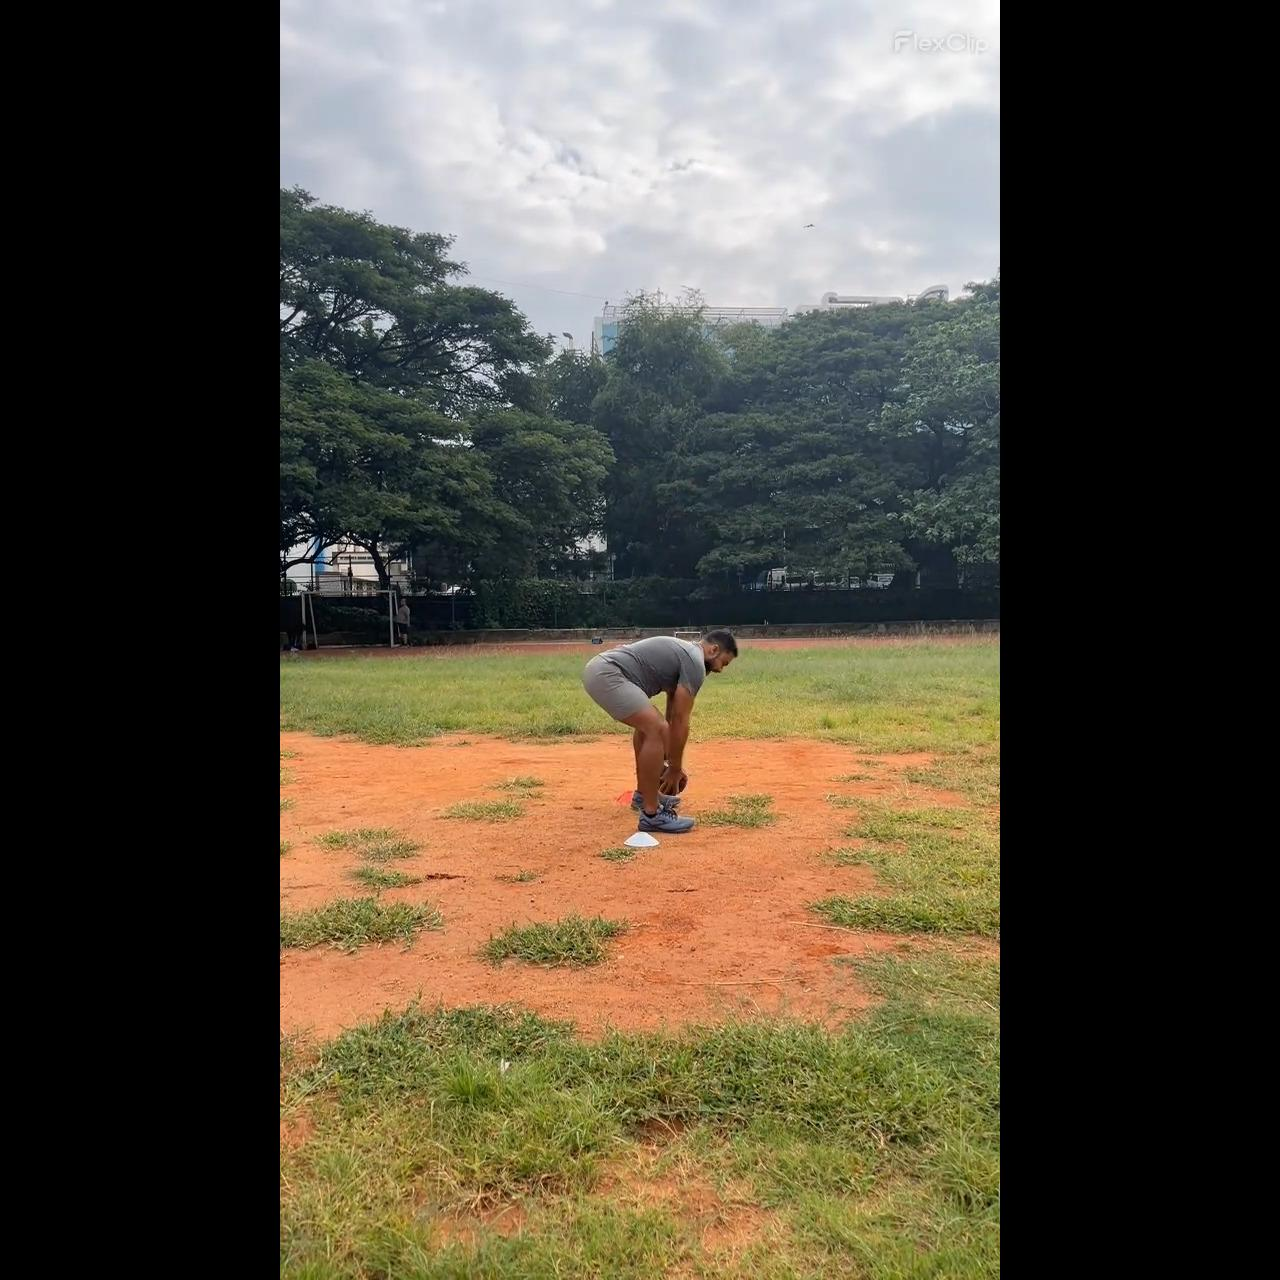Athelete: (579, 627, 738, 835)
